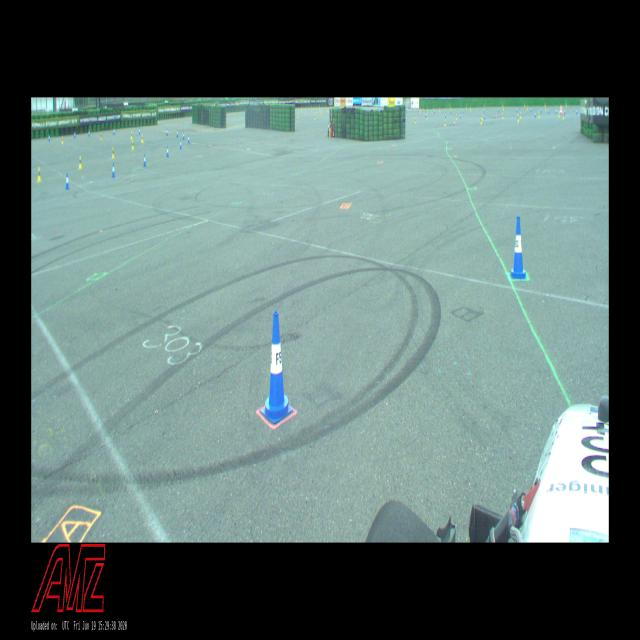blue_cone: (262, 311, 292, 424), (510, 217, 526, 278), (66, 173, 70, 189), (112, 163, 115, 177), (166, 146, 169, 157), (179, 139, 182, 149), (182, 131, 185, 140), (144, 154, 146, 166), (188, 134, 190, 144)
orange_cone: (454, 120, 455, 126)
yellow_cone: (37, 167, 41, 182), (79, 156, 82, 168), (132, 140, 134, 149), (142, 134, 144, 143), (444, 120, 446, 126), (131, 132, 132, 139)
